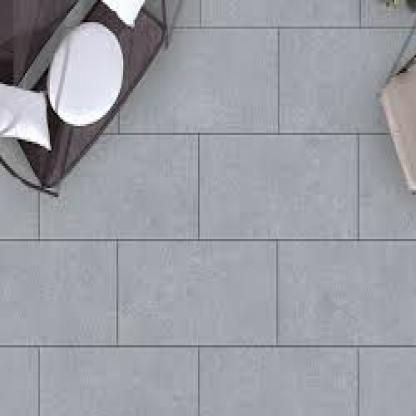Igneous_Diorite: (194, 124, 362, 239), (113, 230, 278, 345), (276, 234, 414, 350), (37, 341, 201, 414), (198, 352, 359, 414)
